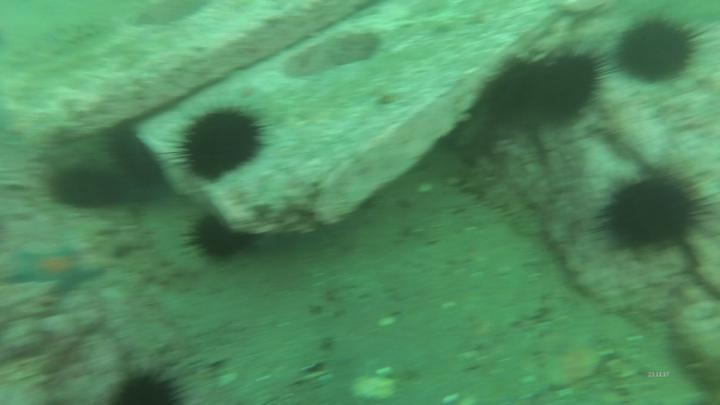echinus: (590, 167, 720, 257), (154, 104, 276, 182), (608, 11, 715, 86), (542, 53, 619, 122), (176, 207, 264, 266), (95, 121, 166, 193), (485, 46, 545, 128), (45, 157, 131, 212), (107, 364, 193, 405)
starfish: (5, 238, 108, 298)
